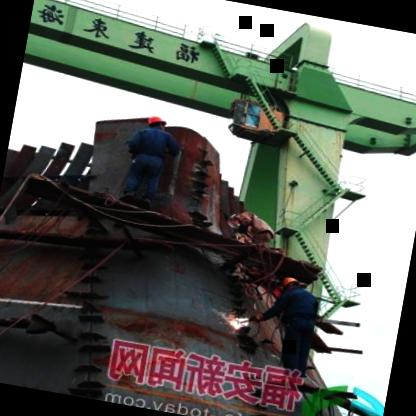helmet: (145, 113, 169, 136), (280, 274, 306, 294)
